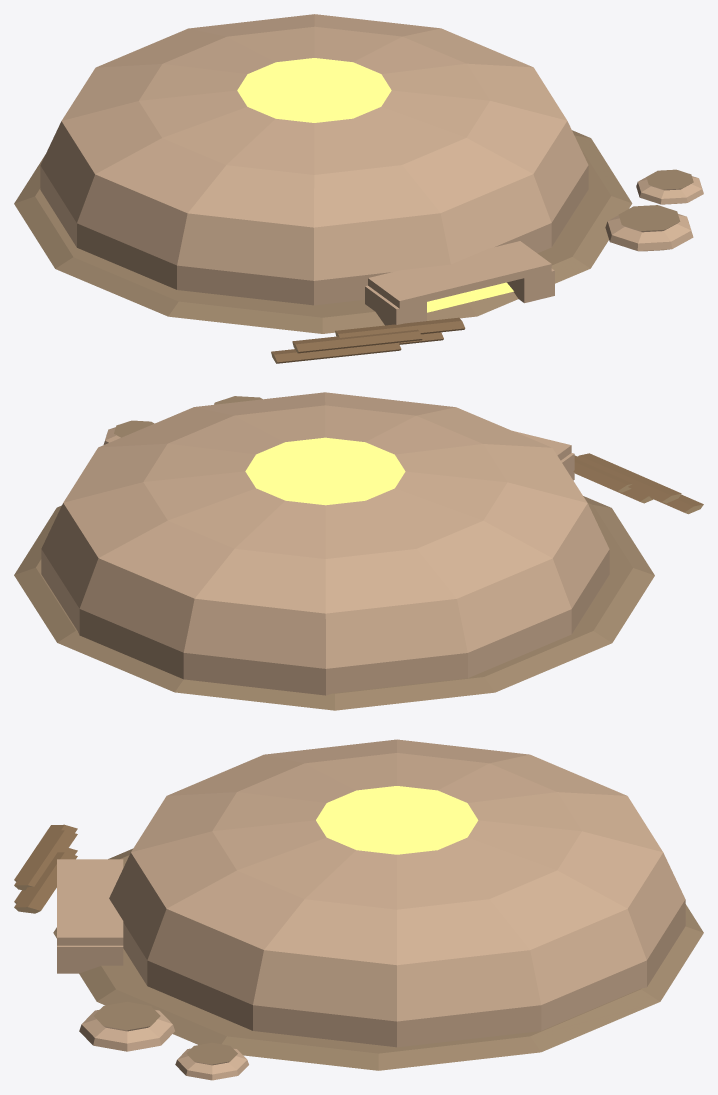
Rendered from building_kiln_foundation.glb.
The picture shows the model from 3 angles, top to bottom: view 1: azimuth 30°, elevation 25°; view 2: azimuth 150°, elevation 25°; view 3: azimuth 270°, elevation 25°; orthographic projection. The views are drawn at different scales.
Parts seen in each view (by area): view 1: building_kiln_foundation; view 2: building_kiln_foundation; view 3: building_kiln_foundation.
Part boxes in pixels (x1=…): building_kiln_foundation: x1=14, y1=14, x2=703, y2=363; building_kiln_foundation: x1=14, y1=392, x2=703, y2=710; building_kiln_foundation: x1=14, y1=739, x2=703, y2=1080.
Bounding box in the file's own units: 1 × 0.18 × 1.
